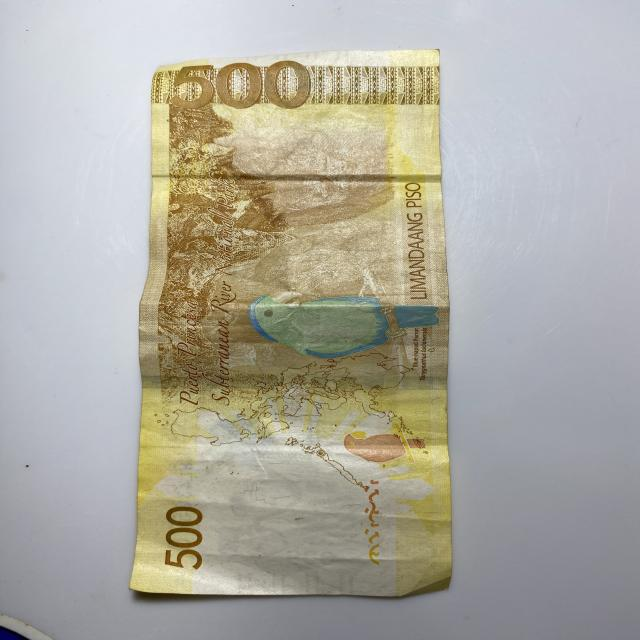500_big_parrot: (248, 289, 442, 362)
500_parrot_watermark: (340, 430, 430, 465)
value_watermark: (288, 550, 338, 567)
